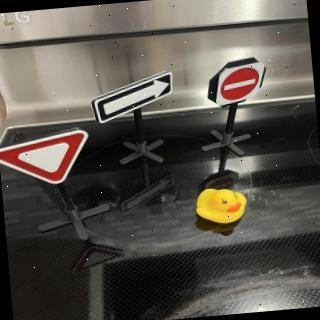duck_regular: (195, 187, 249, 228)
sign_noentry: (212, 60, 271, 110)
sign_oneway_right: (90, 72, 178, 126)
sign_yield: (1, 129, 93, 190)
